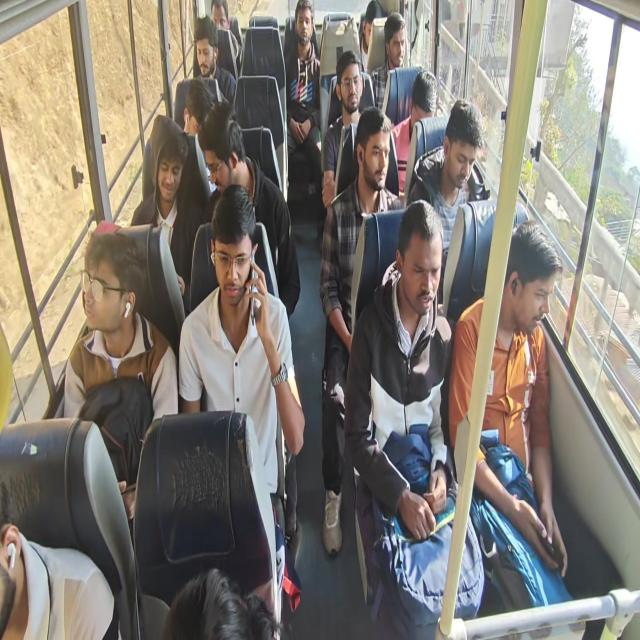person: (0, 478, 48, 637), (503, 219, 558, 349), (83, 244, 140, 334), (396, 222, 436, 316), (212, 213, 249, 307), (446, 120, 482, 195), (205, 120, 238, 192), (361, 124, 394, 196), (152, 139, 178, 200), (179, 88, 210, 136), (386, 20, 413, 74), (412, 79, 437, 133), (340, 64, 366, 115), (194, 30, 218, 75), (361, 0, 382, 50), (202, 0, 230, 33), (294, 0, 315, 43)
